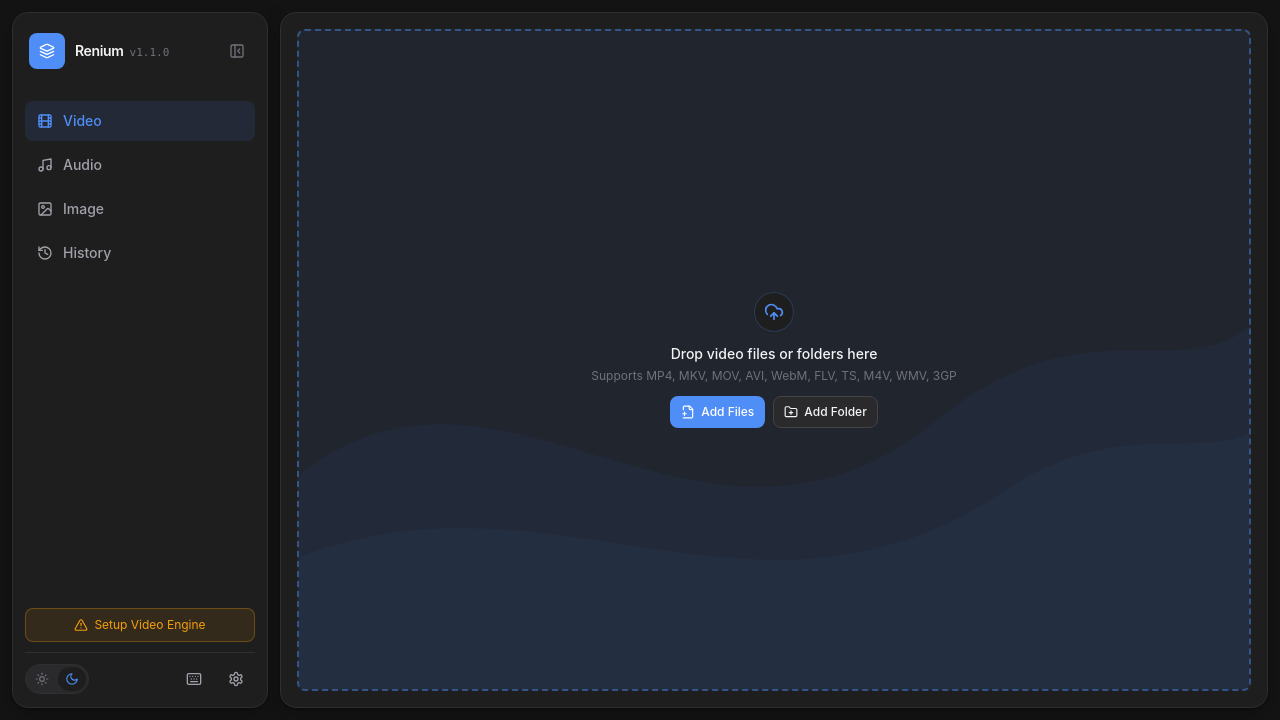
it: Renium UI & Workflows › requires confirmation before deleting history items or clearing all history
Later steps or results of the test are not shown.
Click the tab "History".
click(140, 253)  # box [25,233,255,273]
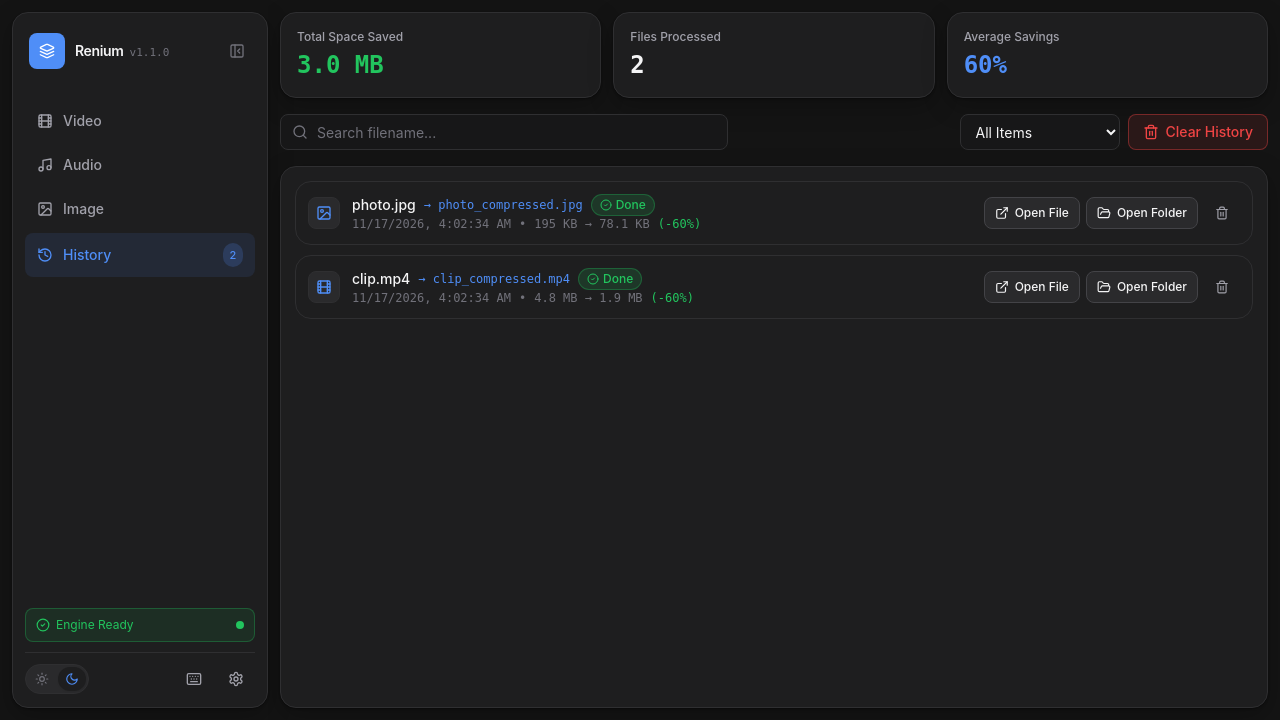
Check: the text "photo.jpg" is shown, box [352,195,416,215]
# Single item delete opens confirmation modal
Click the button named "Delete history item photo.jpg".
click(1222, 213)  # box [1204,197,1240,229]
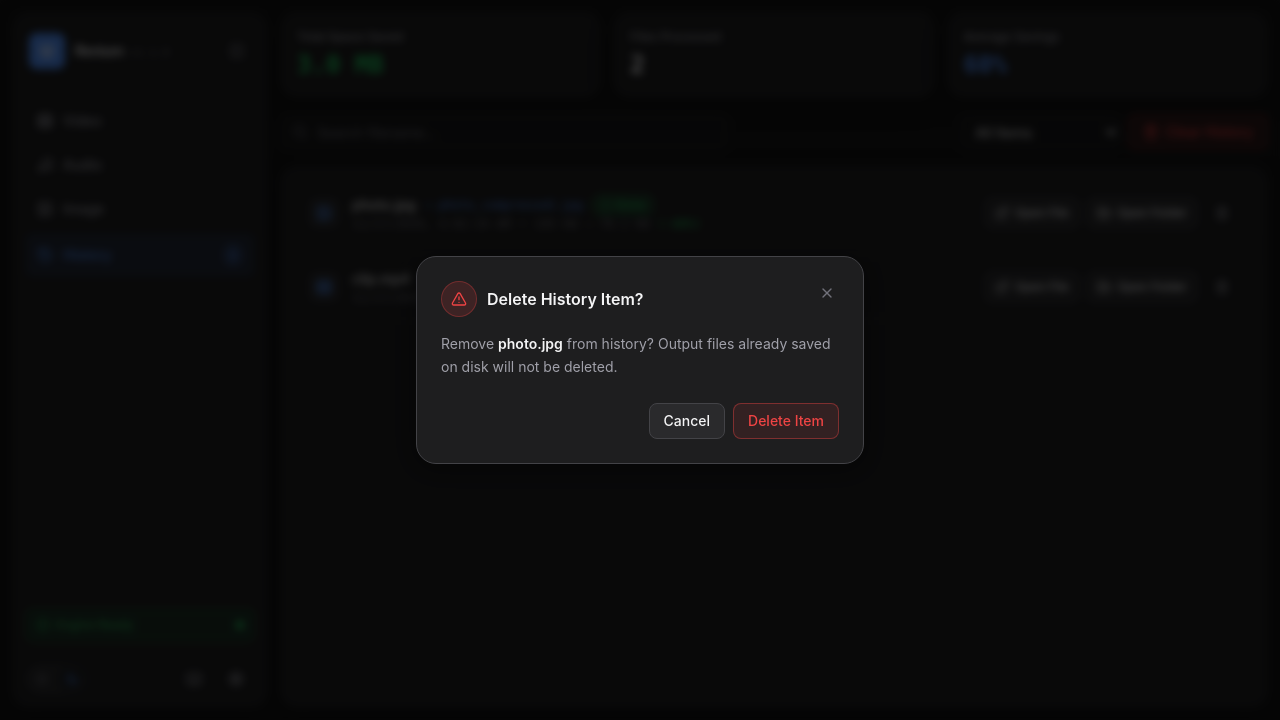
Check: the dialog shows "Delete History Item?", box [487,289,644,309]
Click the button "Delete Item".
click(786, 421)  # box [733,403,839,439]
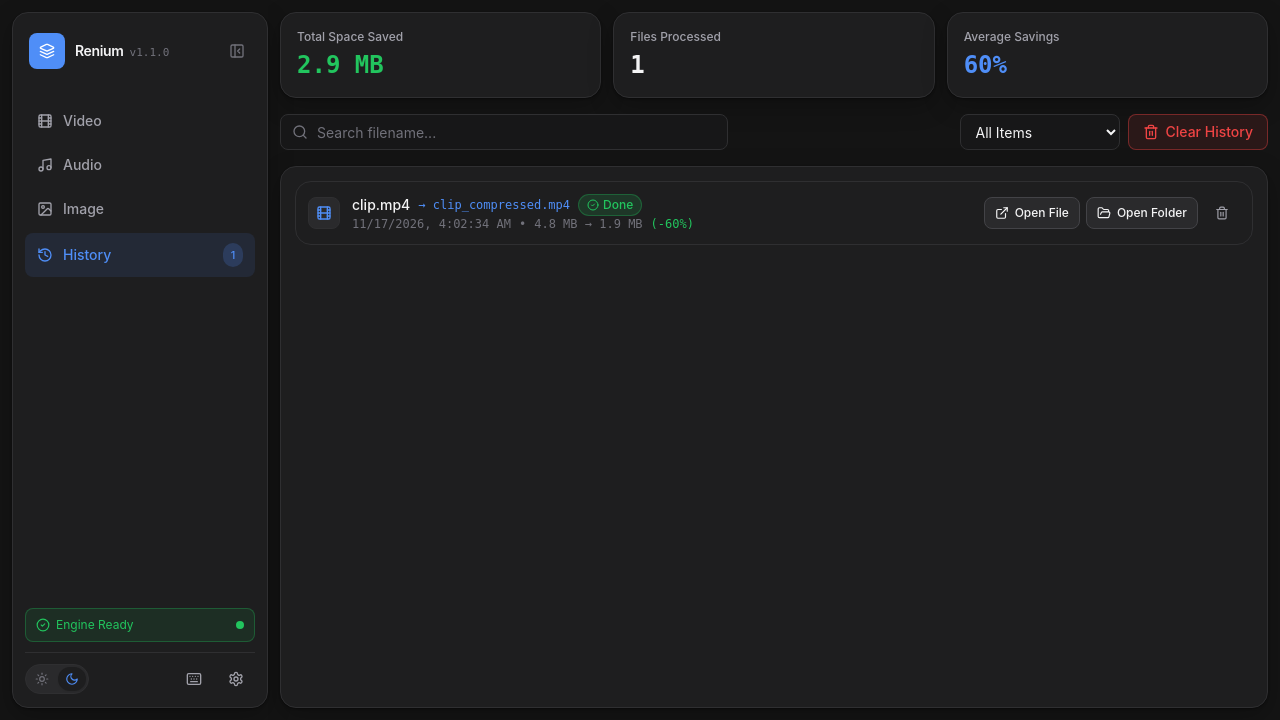
Click the button "Clear History".
click(1198, 132)  # box [1128,114,1268,150]
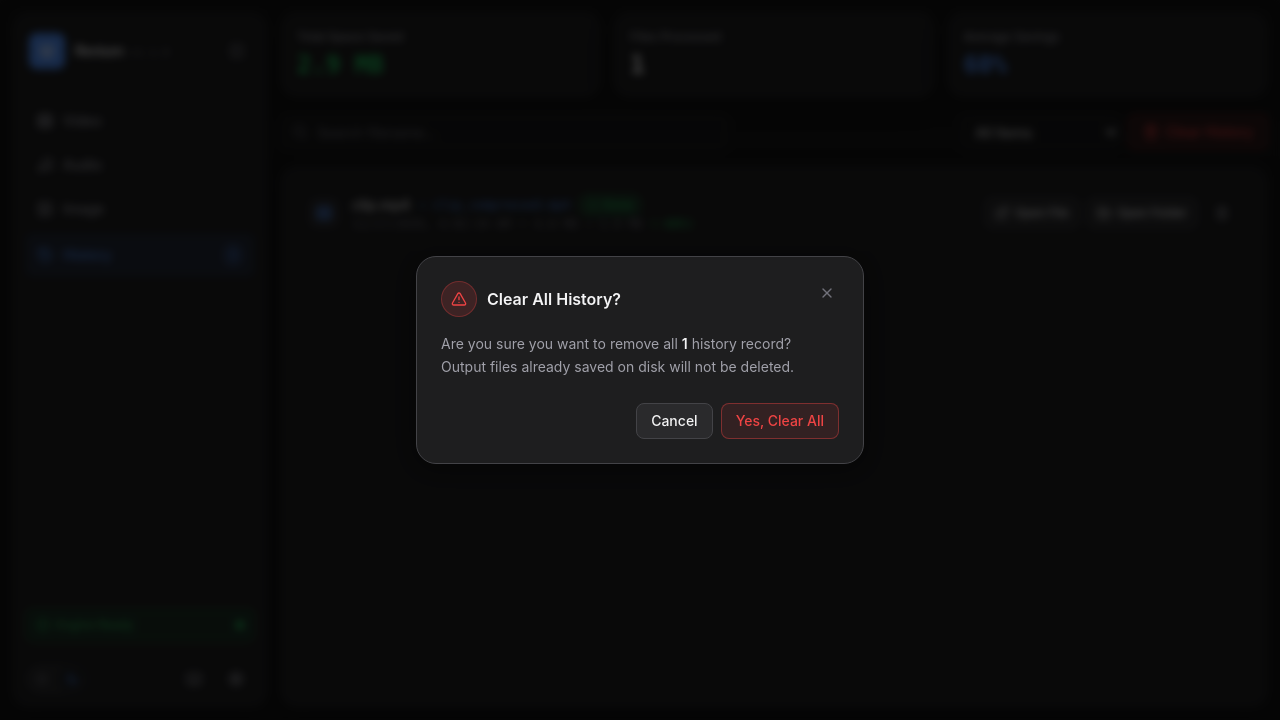
Check: the dialog shows "Clear All History?", box [487,289,621,309]
Check: the button "Yes, Clear All" is shown, box [721,403,839,439]
Click the button "Cancel".
click(674, 421)  # box [636,403,713,439]
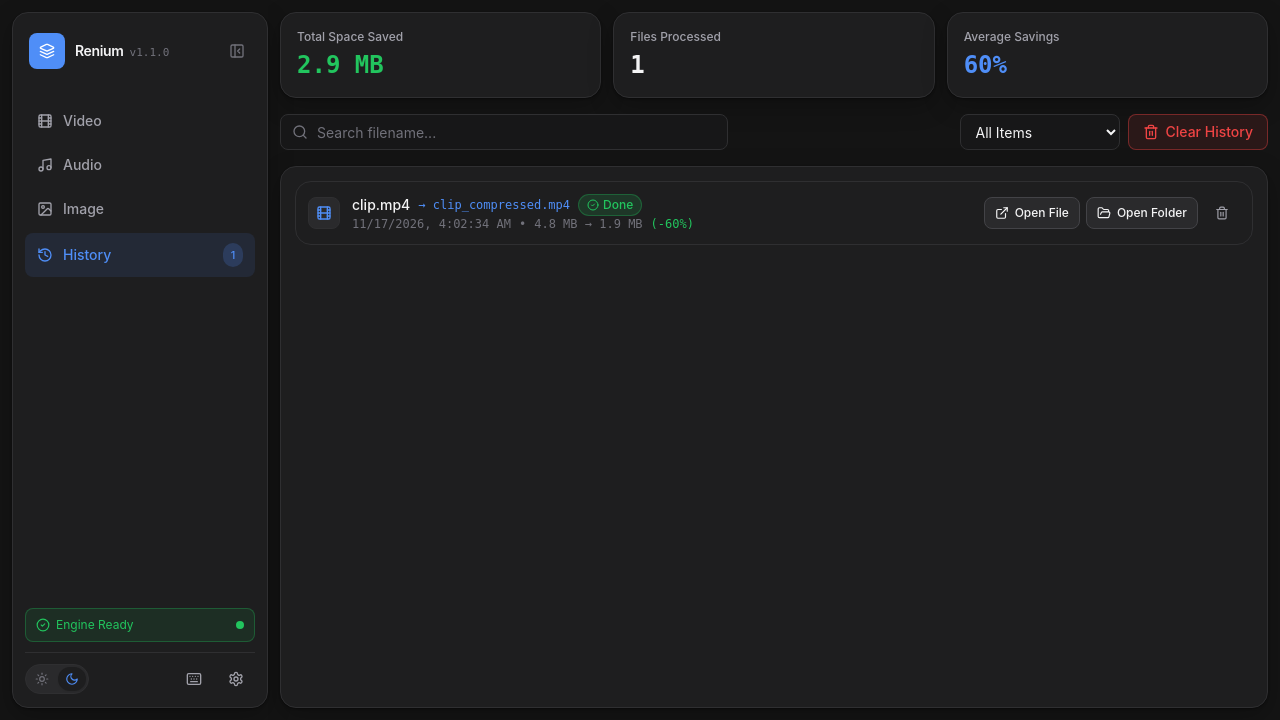
Check: the dialog is gone
